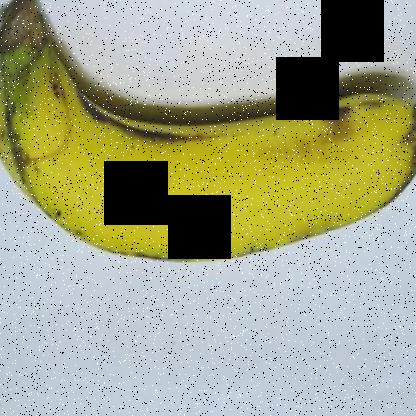freshripe: (1, 1, 415, 277)
